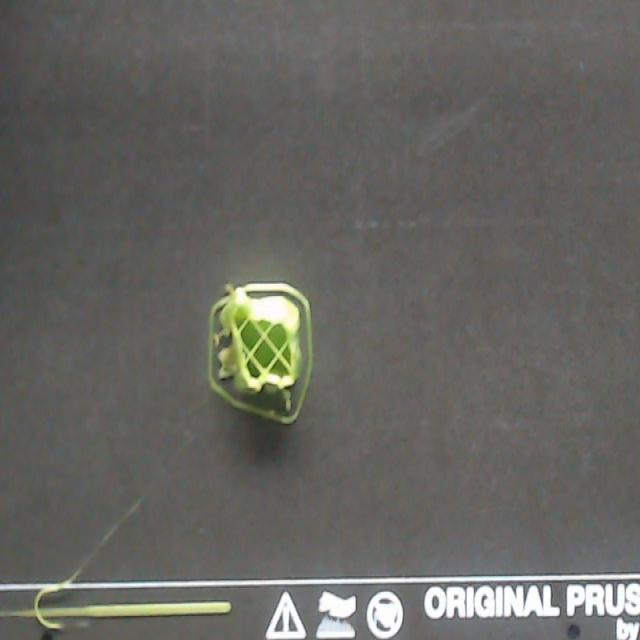mistake: (33, 556, 89, 633), (218, 381, 292, 421), (90, 500, 142, 553), (220, 350, 237, 374), (214, 332, 230, 344), (224, 285, 235, 294)
